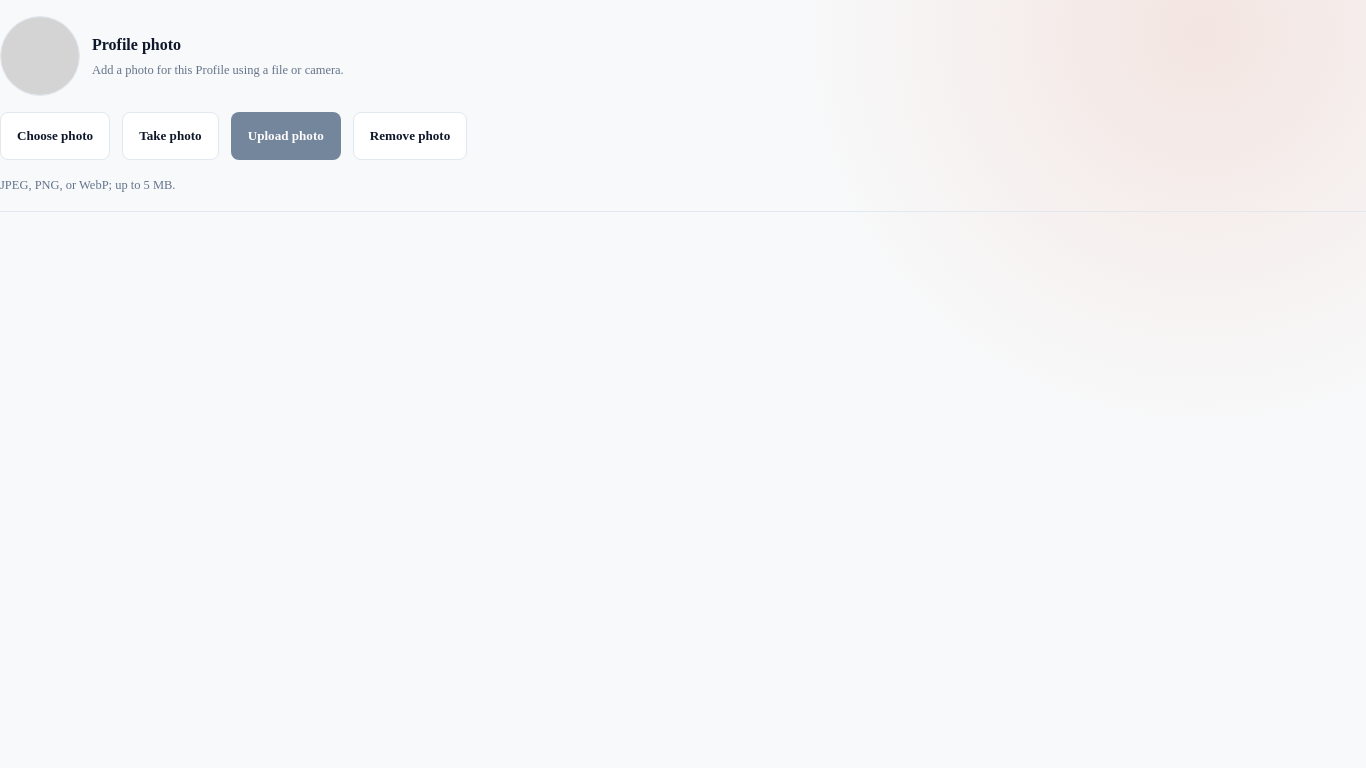
Test case: ProfilePhotoEditor › handles photo removal with confirmation
Click the button "Remove photo" at (410, 136), box [353,112,467,160]
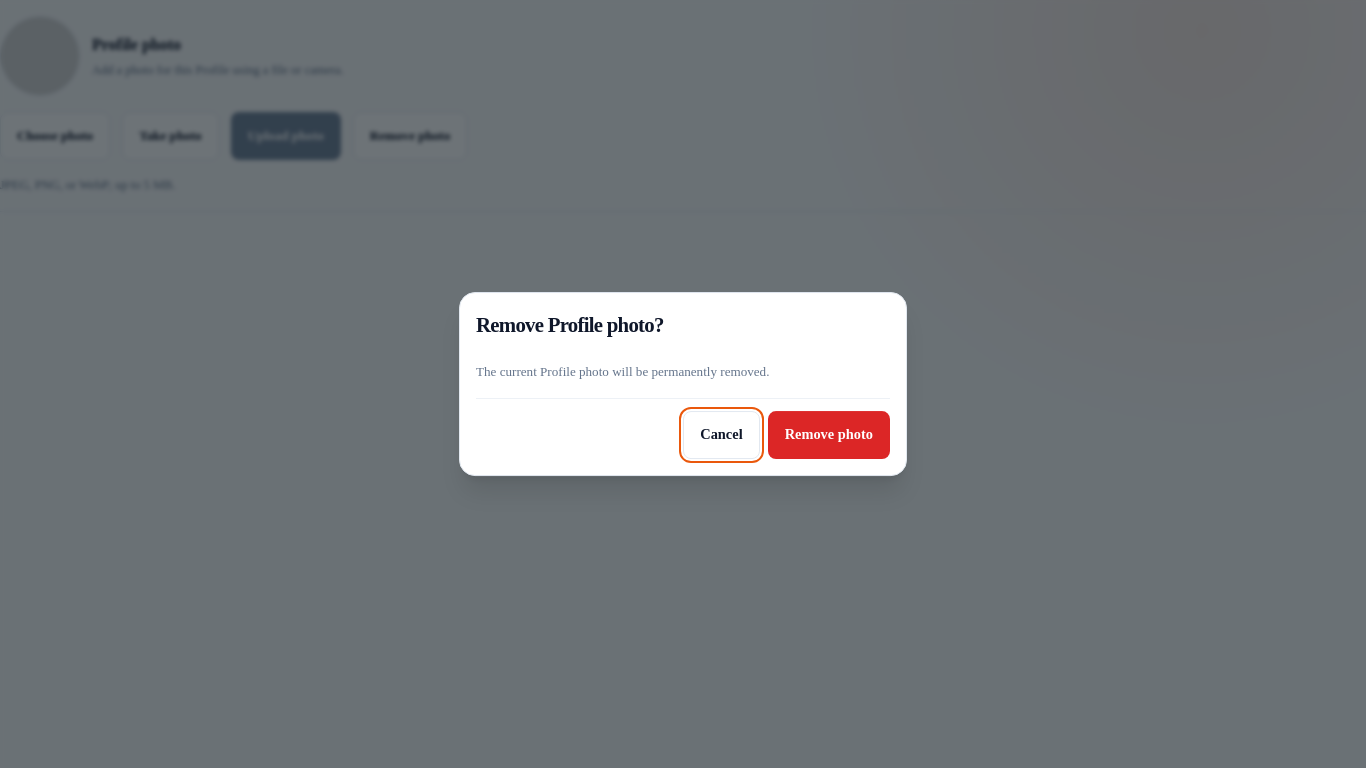
Click the button "Remove photo" at (829, 435), box [768,411,890,459]
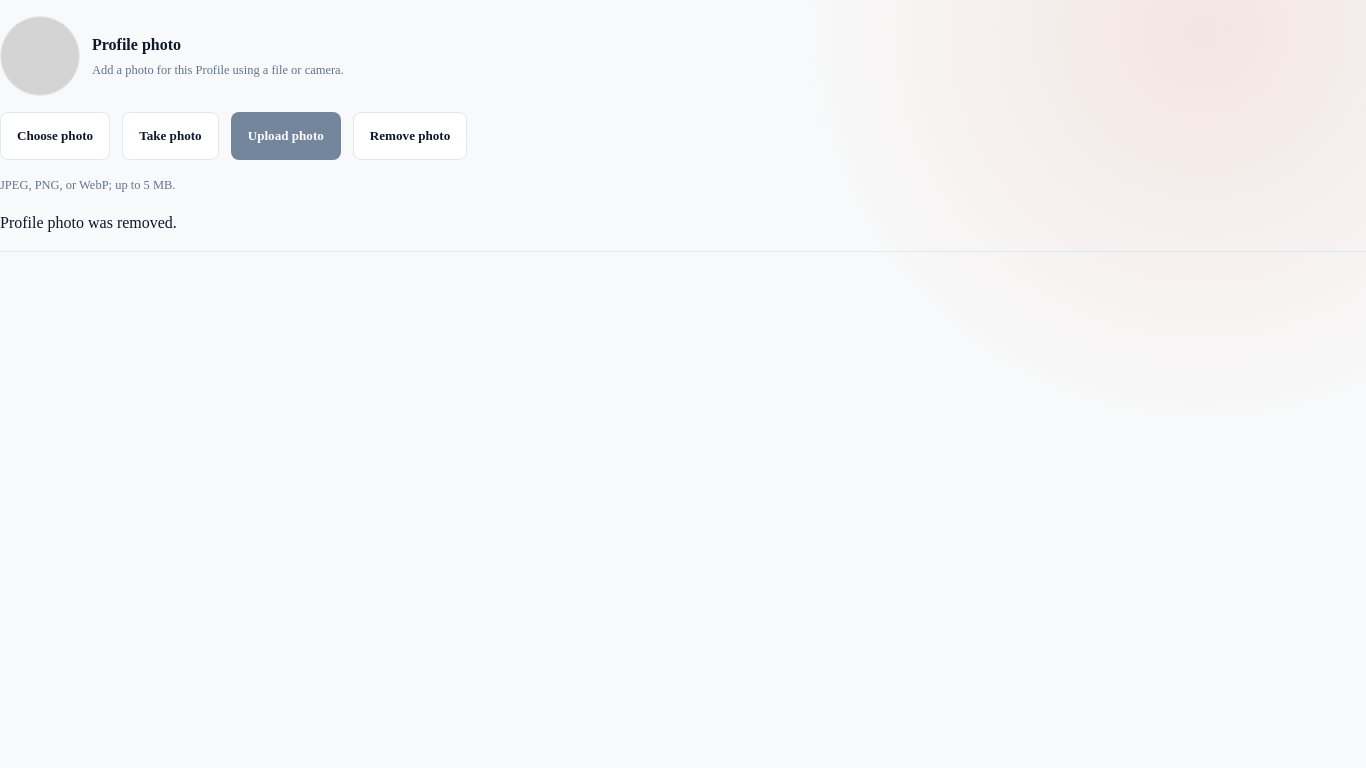
Check: the text "Profile photo was removed." is shown, box [0,214,177,231]
